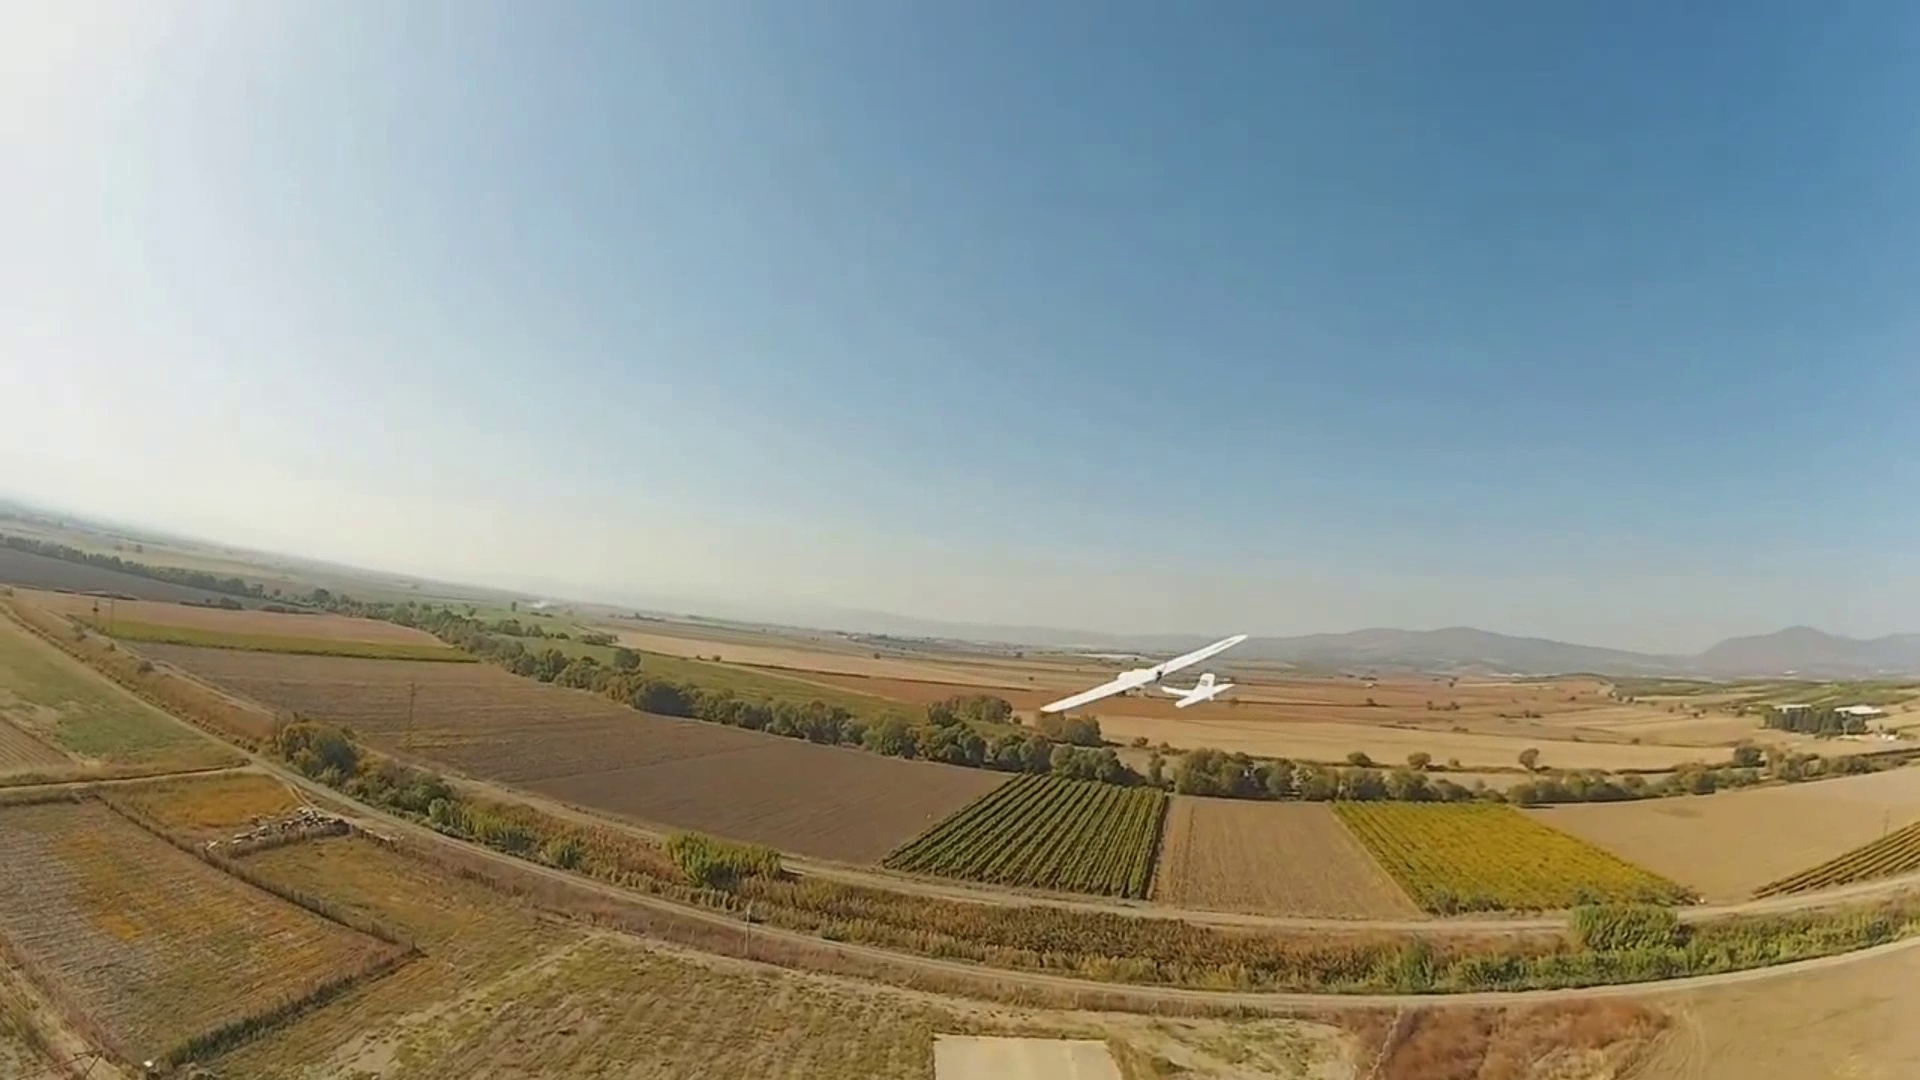airplane: (1027, 630, 1250, 731)
